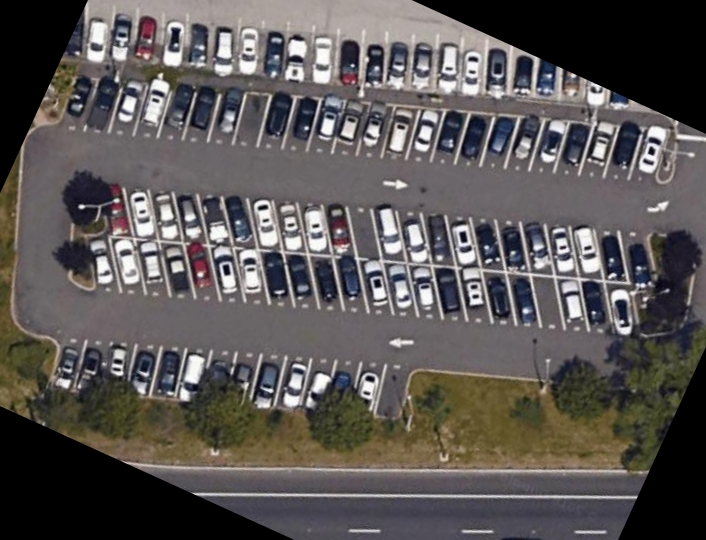parkingspot: (82, 175, 660, 342), (50, 71, 672, 186), (61, 0, 659, 113), (44, 335, 418, 421)
